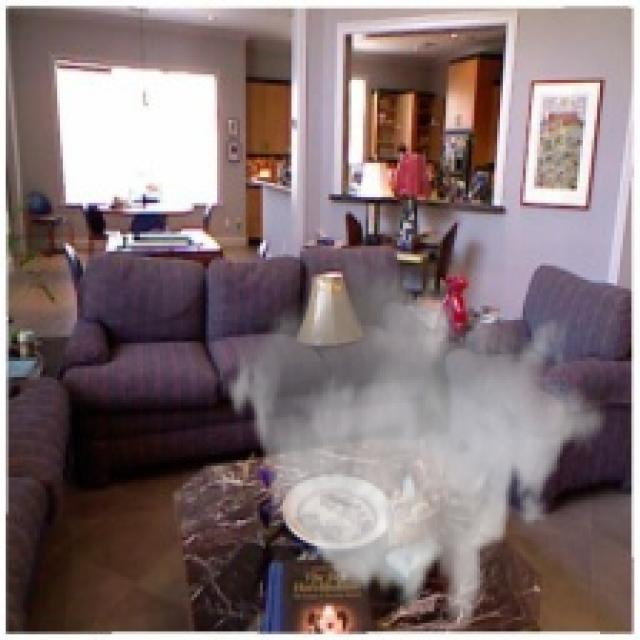Smoke: (223, 246, 606, 634)
